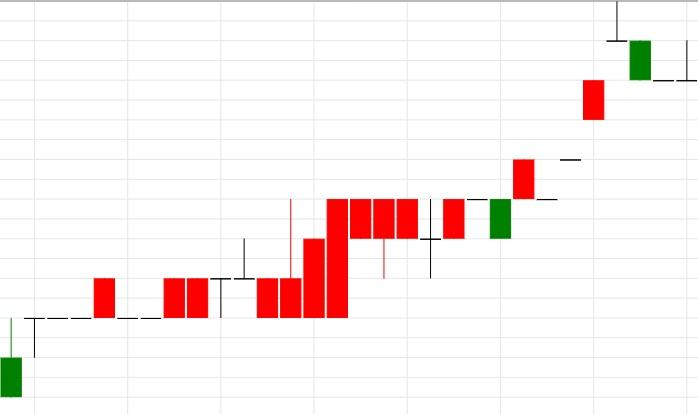evening_star_fall: (0, 198, 512, 398)
